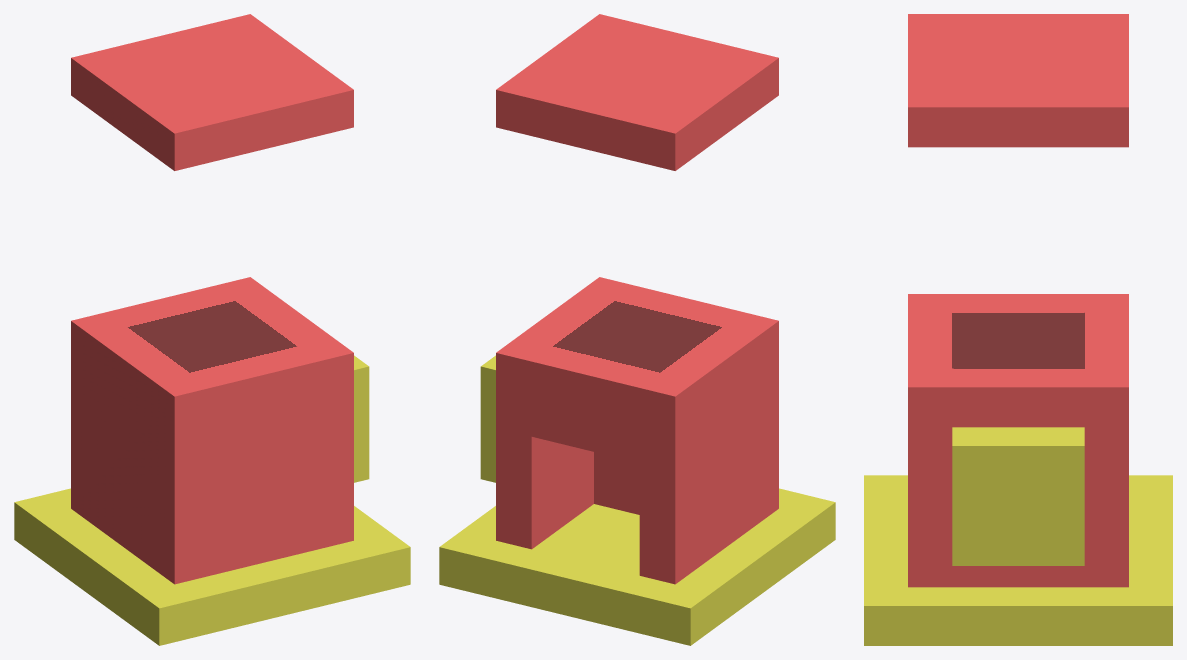
The model's file is item_gacha_machine_base.dae.
3 renders of one model, left to right at view 1: azimuth 30°, elevation 25°; view 2: azimuth 150°, elevation 25°; view 3: azimuth 270°, elevation 25°, orthographic. The views are drawn at different scales.
Visible parts, largest first — view 1: item_gacha_machine_base; view 2: item_gacha_machine_base; view 3: item_gacha_machine_base.
Boxes of the visible parts, left/top/right/bottom form: item_gacha_machine_base: left=14, top=14, right=410, bottom=645; item_gacha_machine_base: left=439, top=14, right=835, bottom=645; item_gacha_machine_base: left=864, top=14, right=1172, bottom=645.
Bounding box in the file's own units: 0.7 × 1.3 × 0.7.
